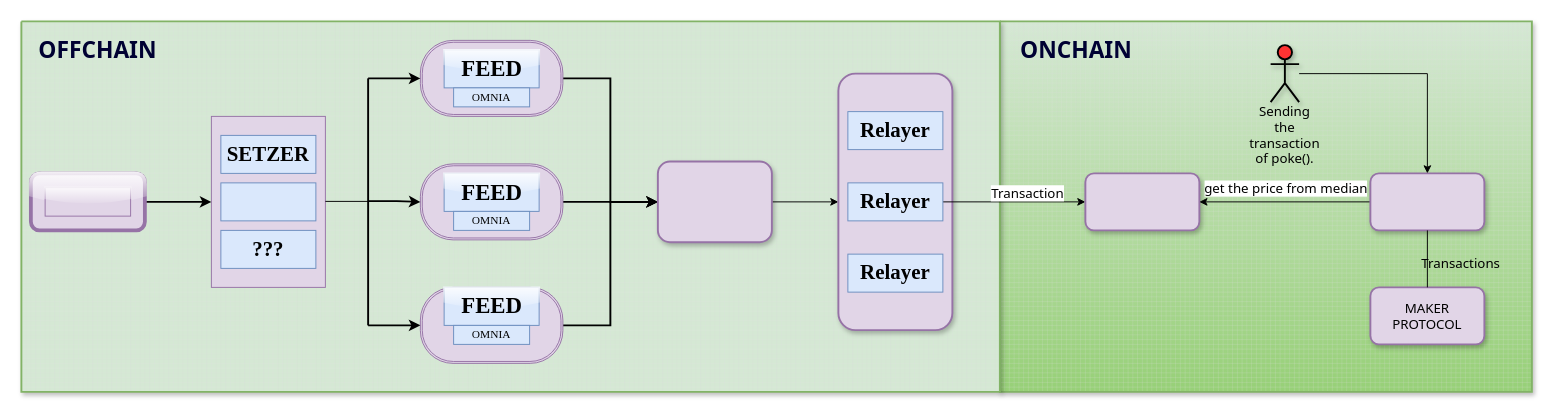
The diagram is 1554 pixels wide and 415 high, and some of its shapes have lost their labels. Here are the shapes that lost their labels. From the top down, the centre of each, then its label:
At pixel 87 201: "Our Rate API".
At pixel 268 201: "GOFER".
At pixel 715 202: "SPIRE".
At pixel 1143 203: "MEDIAN".
At pixel 1428 203: "OSM".
